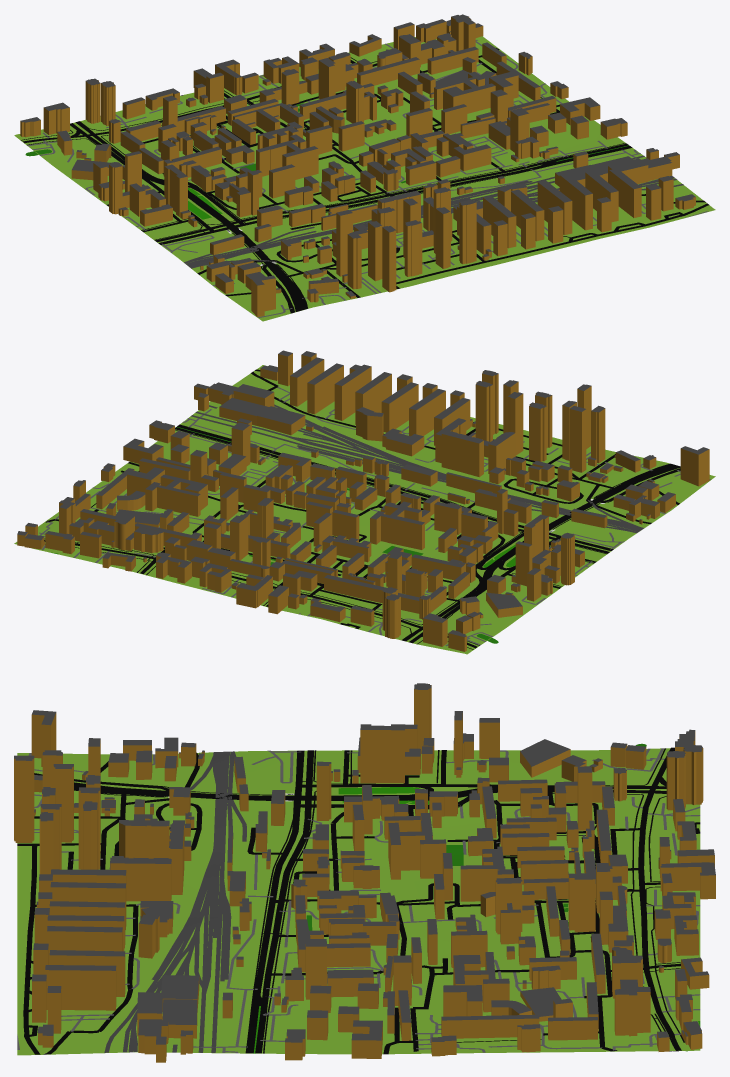
Rendered from tile_04_03.glb.
3 views of the same model, one above another, from view 1: azimuth 30°, elevation 25°; view 2: azimuth 150°, elevation 25°; view 3: azimuth 270°, elevation 25° (orthographic). The views are drawn at different scales.
Parts seen in each view (by area): view 1: Ub_small.osm_buildings_04_03, Terrain_04_03, Ub_small.osm_roads_primary_04_03, Ub_small.osm_roads_residential_04_03, Ub_small.osm_roads_service_04_03, Ub_small.osm_railways_04_03, Ub_small.osm_paths_footway_04_03, Ub_small.osm_roads_unclassified_04_03; view 2: Ub_small.osm_buildings_04_03, Terrain_04_03, Ub_small.osm_railways_04_03, Ub_small.osm_roads_primary_04_03, Ub_small.osm_roads_residential_04_03, Ub_small.osm_roads_service_04_03, Ub_small.osm_paths_footway_04_03, Ub_small.osm_roads_unclassified_04_03, Ub_small.osm_roads_secondary_04_03; view 3: Ub_small.osm_buildings_04_03, Terrain_04_03, Ub_small.osm_roads_residential_04_03, Ub_small.osm_railways_04_03, Ub_small.osm_roads_primary_04_03, Ub_small.osm_roads_service_04_03, Ub_small.osm_paths_footway_04_03, Ub_small.osm_roads_secondary_04_03, Ub_small.osm_roads_unclassified_04_03, Ub_small.osm_vegetation_04_03.
Part boxes in pixels (x1,y1,x2,y2): Ub_small.osm_buildings_04_03: (20,14,695,316); Terrain_04_03: (14,36,715,321); Ub_small.osm_roads_primary_04_03: (70,121,631,311); Ub_small.osm_roads_residential_04_03: (143,48,708,297); Ub_small.osm_roads_service_04_03: (27,40,707,317); Ub_small.osm_railways_04_03: (184,155,683,268); Ub_small.osm_paths_footway_04_03: (20,57,632,313); Ub_small.osm_roads_unclassified_04_03: (197,260,307,313); Ub_small.osm_buildings_04_03: (17,350,709,651); Terrain_04_03: (14,365,715,654); Ub_small.osm_railways_04_03: (191,404,644,533); Ub_small.osm_roads_primary_04_03: (175,425,680,643); Ub_small.osm_roads_residential_04_03: (45,369,615,628); Ub_small.osm_roads_service_04_03: (39,387,710,646); Ub_small.osm_paths_footway_04_03: (44,424,680,649); Ub_small.osm_roads_unclassified_04_03: (586,464,680,524); Ub_small.osm_roads_secondary_04_03: (44,540,477,648); Ub_small.osm_buildings_04_03: (14,683,715,1062); Terrain_04_03: (17,748,700,1055); Ub_small.osm_roads_residential_04_03: (17,774,700,1054); Ub_small.osm_railways_04_03: (104,751,246,1052); Ub_small.osm_roads_primary_04_03: (74,750,666,1053); Ub_small.osm_roads_service_04_03: (17,748,700,1053); Ub_small.osm_paths_footway_04_03: (34,748,684,1053); Ub_small.osm_roads_secondary_04_03: (638,747,681,1050); Ub_small.osm_roads_unclassified_04_03: (34,752,199,804); Ub_small.osm_vegetation_04_03: (253,787,700,1053).
Size of the model in its own units: 1030 by 130 by 956.
